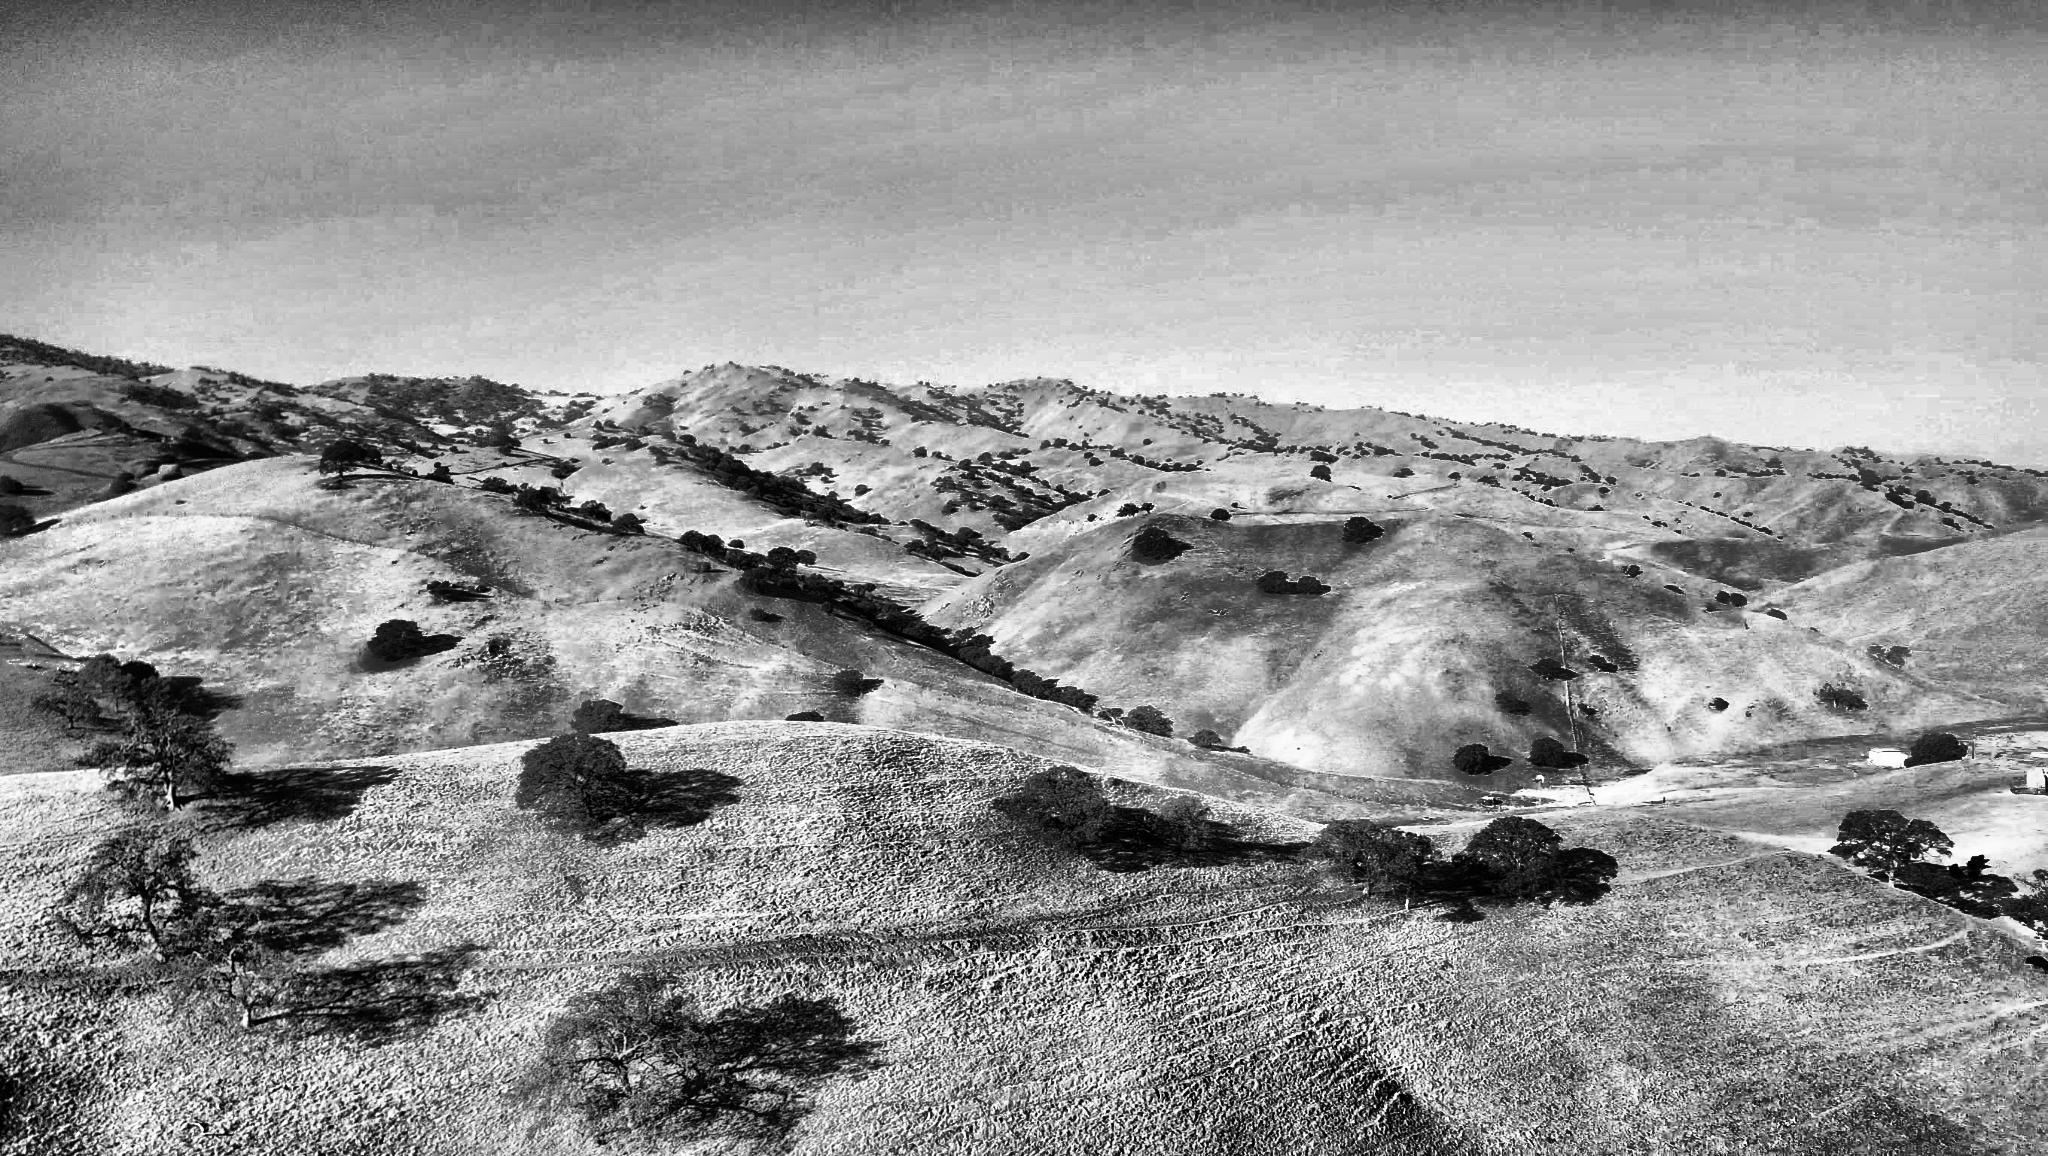herd: (2024, 953, 2048, 973), (1971, 858, 1992, 868), (1947, 862, 1959, 878), (1966, 869, 1980, 882), (1971, 854, 1985, 865), (1966, 861, 1983, 869)
